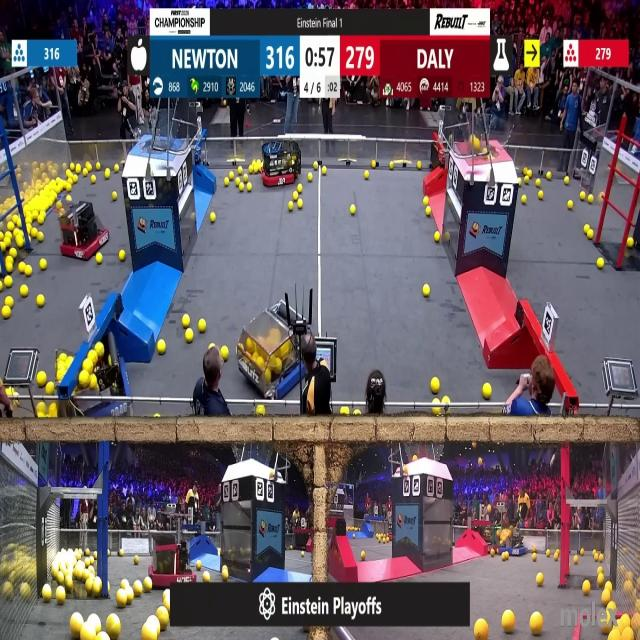ball_airborne: (472, 139, 480, 151)
ball_ground: (530, 614, 543, 636), (71, 616, 83, 639), (502, 612, 514, 634), (108, 617, 120, 637), (158, 611, 168, 631), (142, 625, 155, 640), (57, 589, 67, 605), (42, 587, 52, 603), (430, 378, 439, 394), (94, 580, 102, 597), (601, 590, 610, 605), (117, 592, 125, 608), (134, 583, 143, 597), (484, 384, 492, 399), (84, 579, 93, 592), (158, 341, 166, 355), (584, 582, 592, 596), (48, 405, 56, 419), (602, 622, 610, 636), (38, 373, 46, 386), (220, 347, 228, 360), (144, 580, 152, 593), (127, 591, 135, 604), (185, 328, 192, 342), (536, 572, 543, 586), (199, 320, 207, 332), (45, 382, 53, 394), (66, 577, 74, 589), (221, 567, 228, 580), (37, 212, 44, 225), (256, 407, 264, 418), (21, 285, 29, 296), (182, 315, 189, 327), (3, 307, 10, 319), (37, 294, 44, 306), (26, 266, 33, 278), (597, 257, 604, 269), (16, 236, 23, 248), (4, 277, 12, 287), (118, 250, 125, 261), (5, 263, 12, 274), (597, 574, 604, 585), (96, 622, 103, 633), (423, 284, 429, 296), (40, 260, 46, 272), (204, 571, 211, 581), (37, 233, 44, 243), (0, 241, 7, 251), (628, 238, 634, 249), (6, 295, 12, 306), (432, 409, 440, 417), (97, 253, 103, 263), (434, 233, 440, 243), (588, 231, 594, 241), (18, 264, 24, 274), (350, 205, 356, 215), (32, 230, 38, 240), (291, 191, 298, 199), (579, 191, 585, 200), (195, 561, 201, 570), (10, 248, 16, 257), (75, 166, 81, 175), (134, 556, 140, 565), (8, 222, 14, 231), (444, 396, 451, 403), (308, 174, 314, 182), (564, 177, 570, 185), (246, 183, 252, 191), (524, 176, 530, 184), (72, 175, 78, 183), (502, 553, 508, 561), (66, 170, 72, 178), (119, 581, 125, 589), (573, 556, 579, 564), (238, 168, 244, 176), (594, 554, 600, 562), (608, 602, 614, 610), (211, 213, 216, 222), (288, 203, 293, 212), (589, 193, 594, 202), (105, 170, 110, 179), (555, 553, 560, 562), (67, 182, 72, 191), (523, 168, 528, 177), (370, 162, 376, 169), (227, 172, 233, 179), (344, 410, 350, 417), (112, 191, 117, 199), (522, 194, 527, 202), (237, 177, 242, 185), (82, 168, 87, 176), (527, 170, 532, 178), (516, 179, 521, 187), (6, 386, 11, 394), (599, 554, 604, 562), (88, 164, 93, 172), (568, 201, 572, 210), (418, 162, 422, 171), (426, 207, 430, 216), (424, 198, 428, 207), (364, 171, 368, 180), (240, 182, 244, 191), (354, 411, 360, 417), (97, 634, 103, 640), (114, 166, 119, 173), (387, 161, 392, 168), (248, 167, 253, 174), (118, 551, 123, 558), (67, 193, 72, 200), (538, 190, 542, 198), (532, 554, 536, 562), (297, 201, 301, 209), (536, 179, 540, 187), (297, 184, 301, 192), (224, 178, 228, 186), (97, 164, 101, 172), (585, 224, 589, 232), (360, 553, 364, 561), (580, 550, 584, 558), (244, 175, 248, 183), (314, 163, 318, 171), (0, 234, 4, 242), (403, 465, 407, 473), (58, 202, 62, 210), (491, 551, 496, 557), (299, 552, 304, 558), (432, 398, 438, 403), (93, 176, 97, 183), (322, 168, 326, 175), (546, 173, 550, 180), (545, 551, 549, 558), (532, 545, 536, 552), (289, 544, 292, 550), (209, 344, 212, 349)
goal: (459, 118, 517, 158), (129, 116, 187, 152)
robot_blue: (56, 332, 131, 416), (238, 314, 309, 399), (500, 526, 529, 556)
robot_red: (59, 196, 107, 260), (149, 532, 201, 589), (260, 138, 303, 186), (478, 525, 501, 552)
